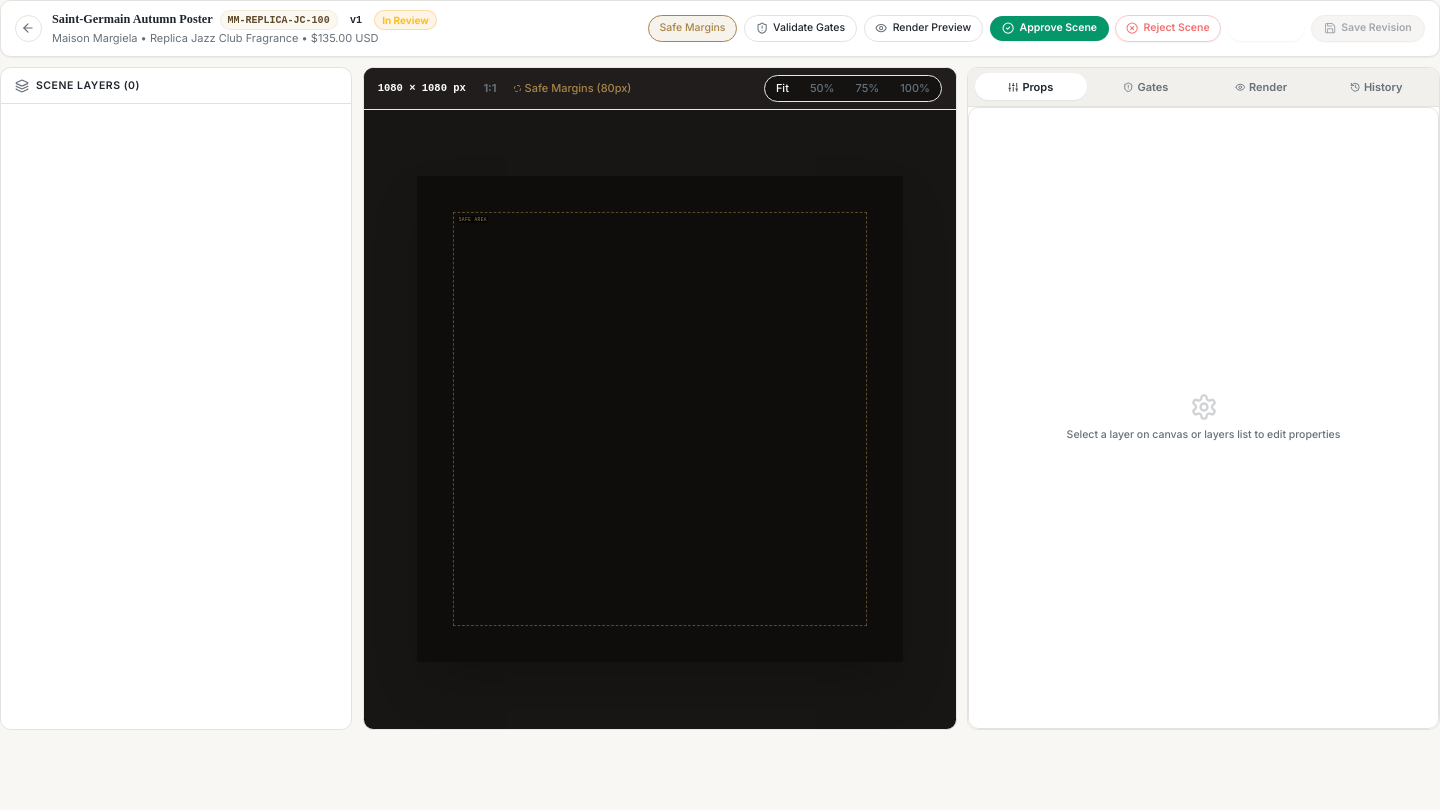
Test: Creative Approval Workflow & Security Governance (WEB-CREATIVE-SEC-01 to 15) › WEB-CREATIVE-SEC-05: Rejection modal opens on click of reject button
What coordinates should you click on to do the following:
click the button with test id "reject-scene-button"
I would click on:
 (1168, 28)
Its box is x1=1114 y1=15 x2=1221 y2=42.
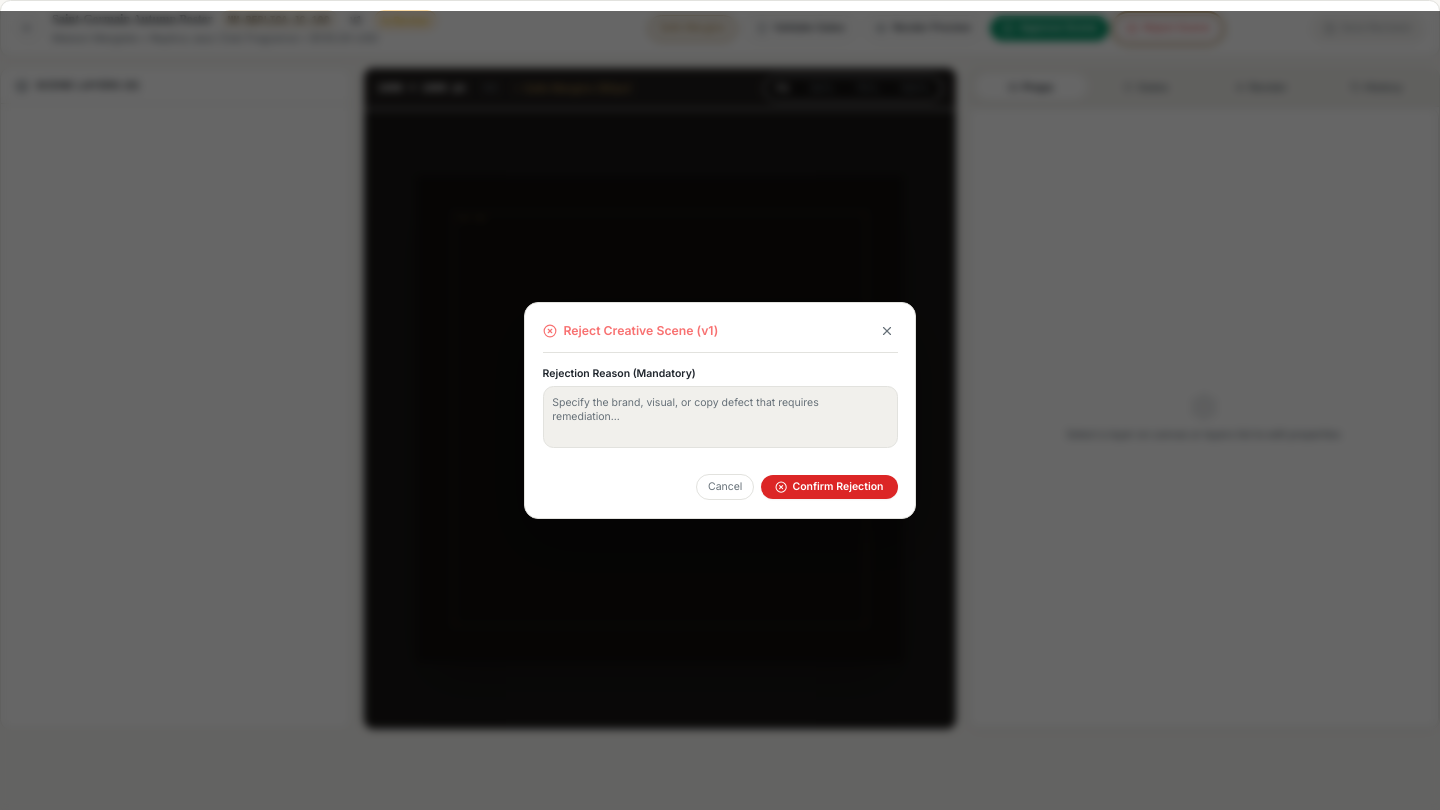
expect the text box with test id "reject-reason-textarea" is shown: met, box x1=542 y1=386 x2=898 y2=448
expect the button with test id "confirm-reject-button" is shown: met, box x1=761 y1=475 x2=898 y2=499
